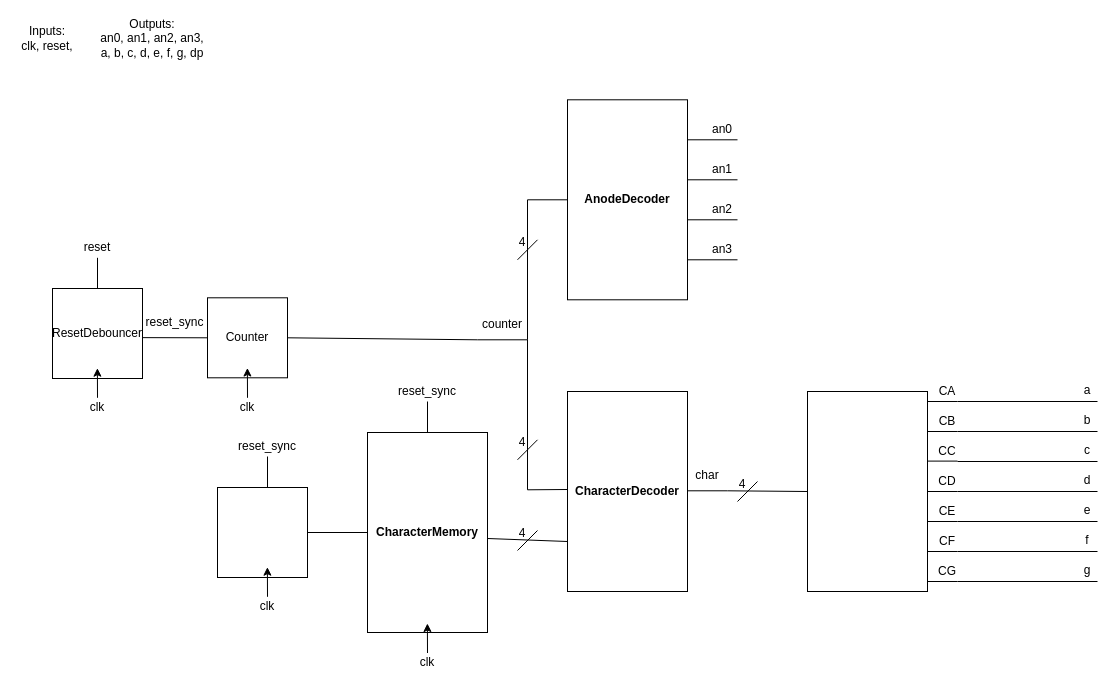
Image size: 1116x689. Some labels were removed from this diagram. Here are the shapes that lost their labels. From the top down, the centre of each, then its label:
At (x=867, y=491): "LEDdecoder".
At (x=262, y=532): "OneSecond Counter".
